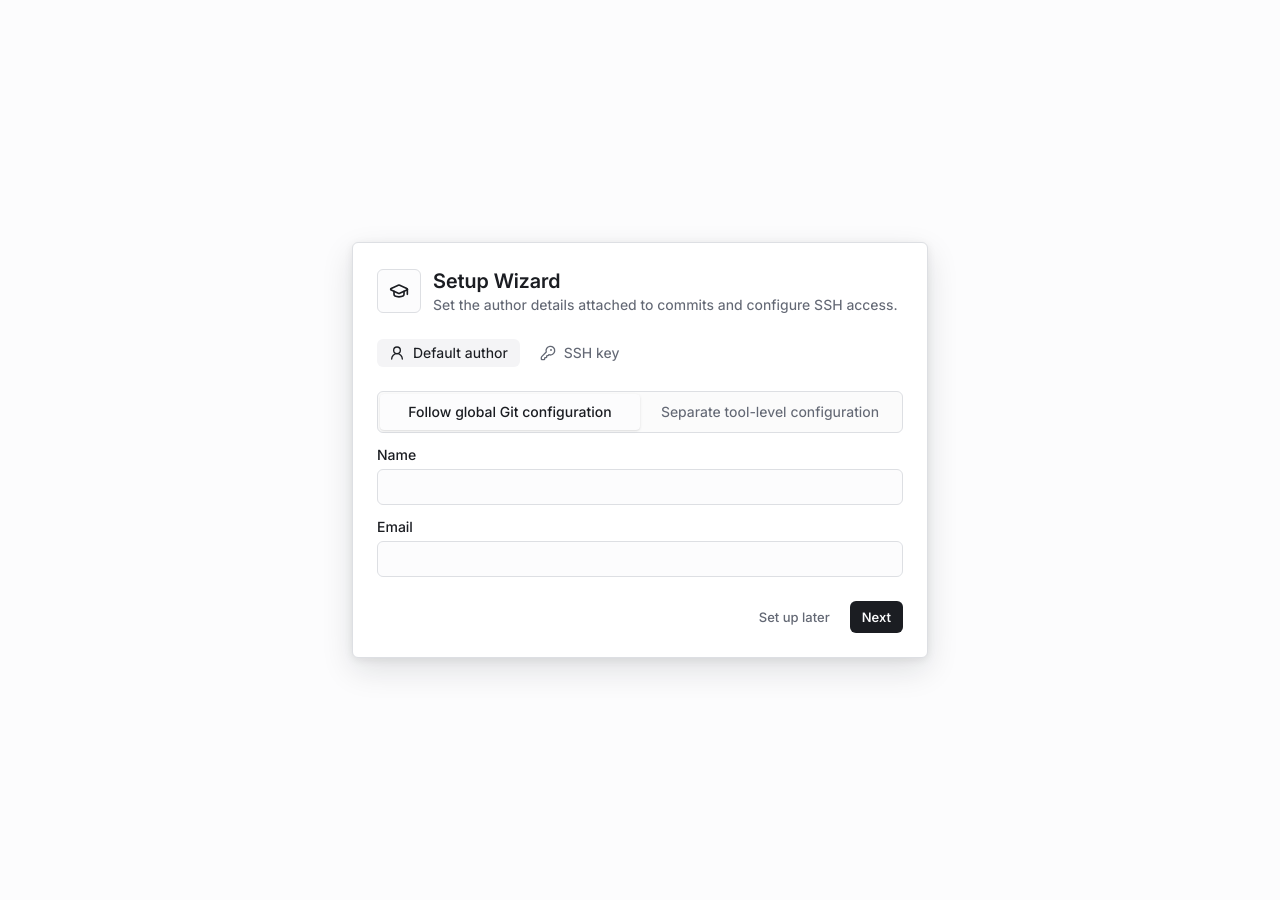
App › routes first-run windows to the onboarding placeholder
The width and height of the screenshot is (1280, 900).
Expected: the heading "Setup Wizard" is shown, [433,269,561,293]
Expected: the text "Set the author details attached to commits and configure SSH access." is shown, [433,295,898,315]
Click the button "Set up later": [794, 617] box [747,601,842,633]
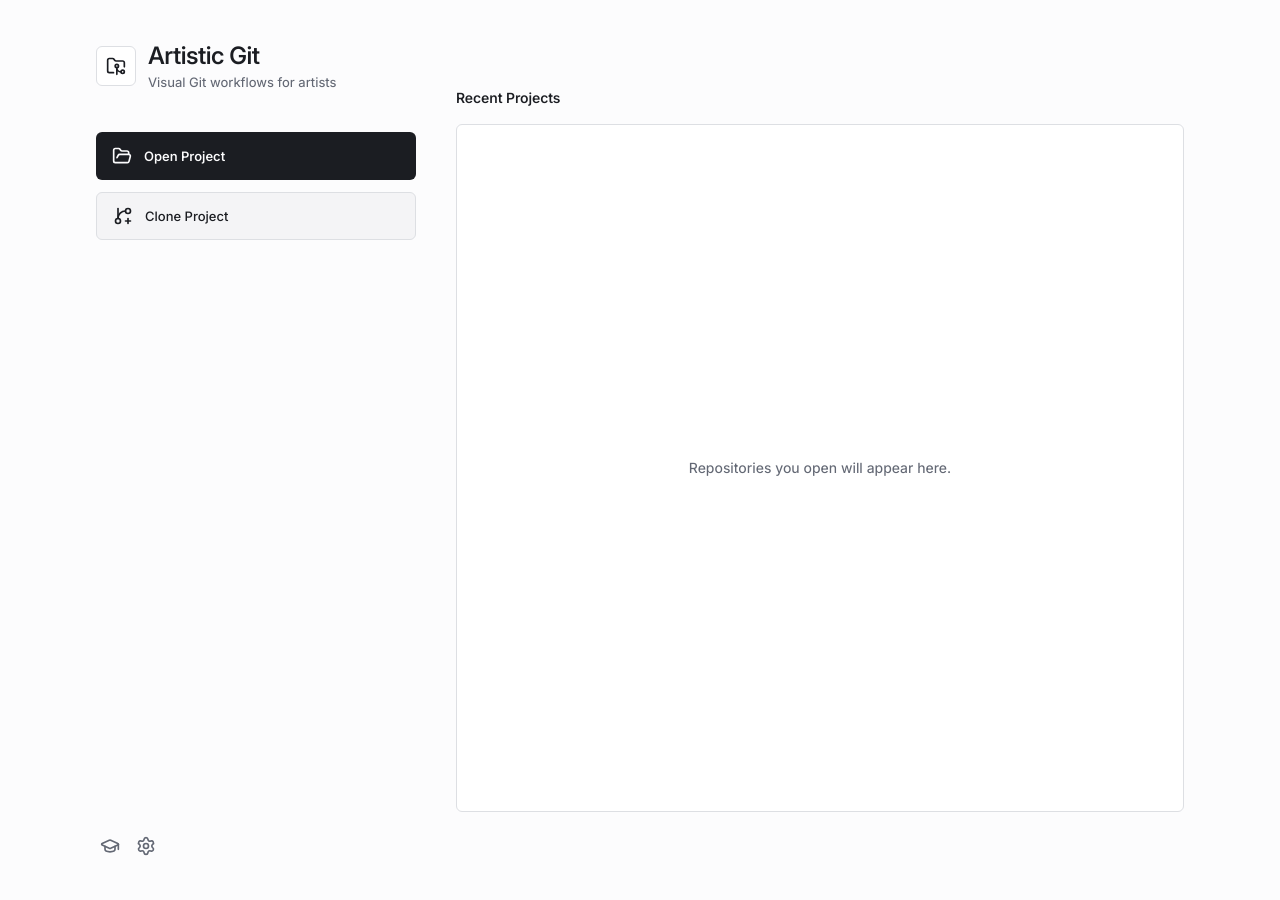
Result: the button "Open Project" is shown at [96,132,416,180]
